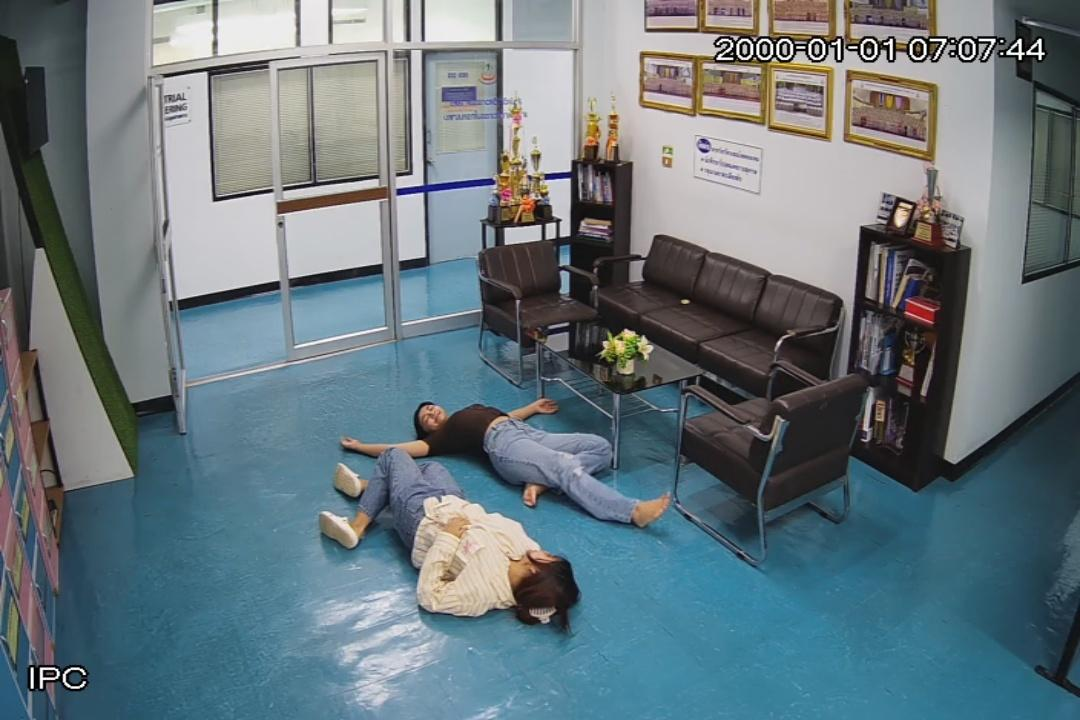fall: (318, 446, 577, 619), (339, 399, 670, 530)
